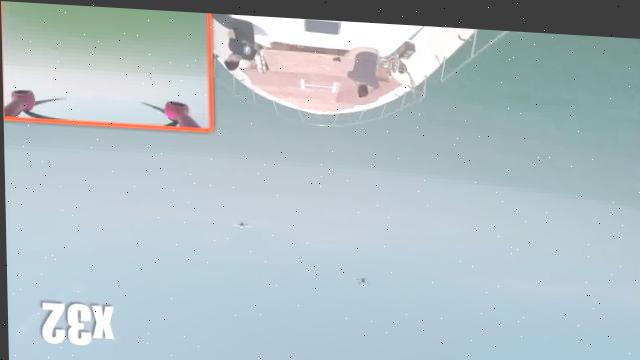drone: (228, 209, 251, 233), (348, 266, 373, 283)
